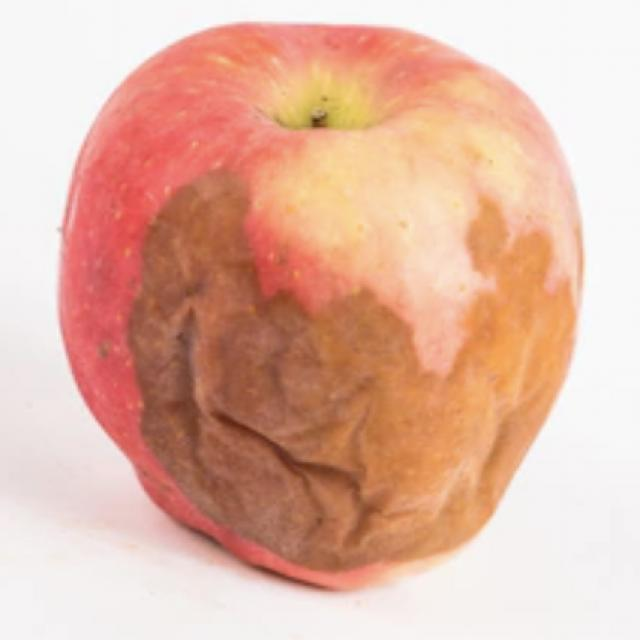Rotten: (53, 13, 587, 597)
